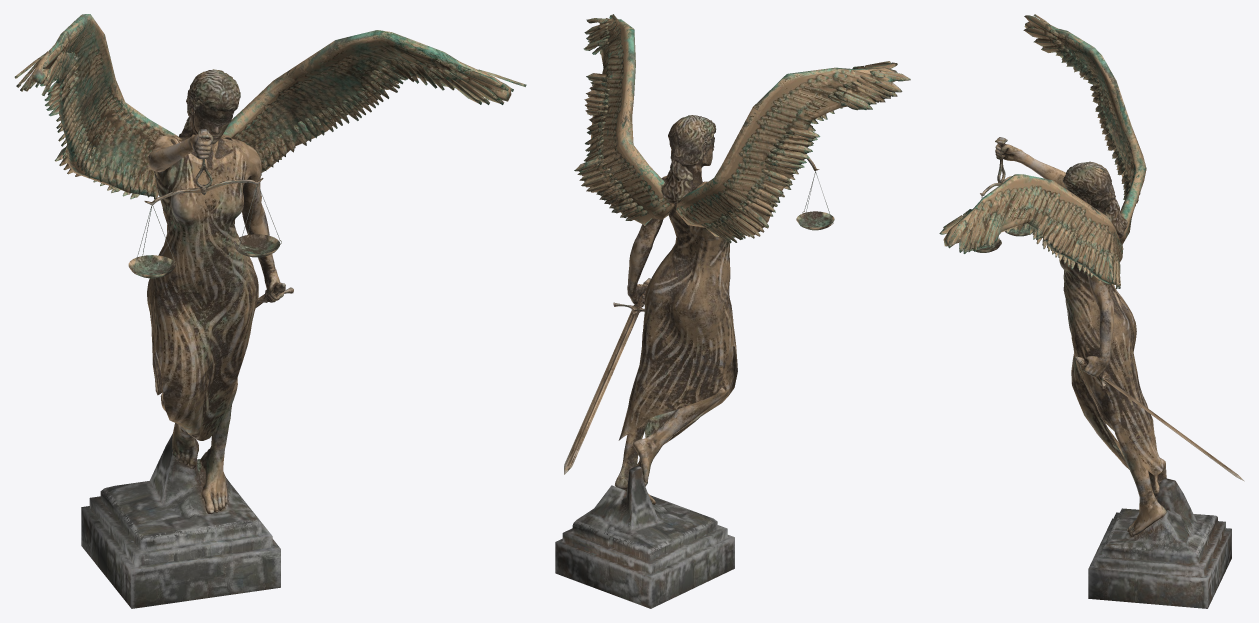
3 views of the same model, side by side, from view 1: azimuth 30°, elevation 25°; view 2: azimuth 150°, elevation 25°; view 3: azimuth 270°, elevation 25° (orthographic). The views are drawn at different scales.
Parts seen in each view (by area): view 1: Angel_Body, Angel_Wings; view 2: Angel_Body, Angel_Wings; view 3: Angel_Body, Angel_Wings.
Part boxes in pixels (x1,y1,x2,y2): Angel_Body: (81, 69, 293, 608); Angel_Wings: (14, 14, 526, 199); Angel_Body: (555, 115, 834, 608); Angel_Wings: (574, 14, 910, 242); Angel_Body: (972, 137, 1244, 608); Angel_Wings: (939, 14, 1146, 289).
Bounding box in the file's own units: 61.41 × 80 × 46.05.
2 materials, 2 textured.
